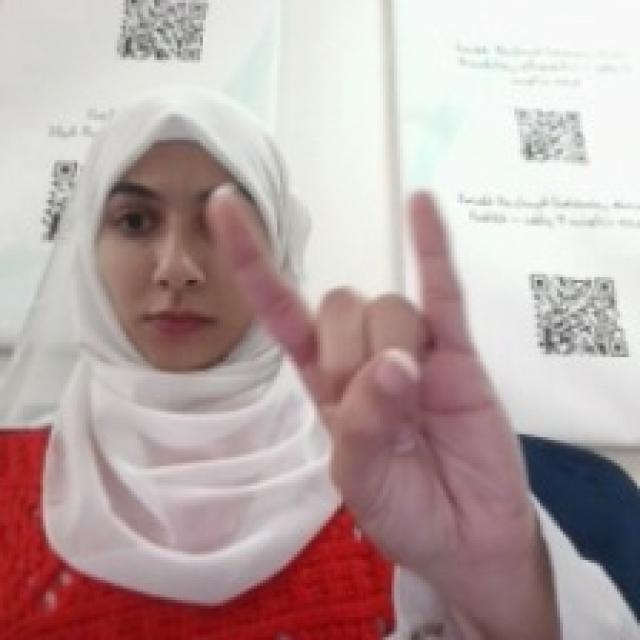No: (205, 172, 526, 572)
